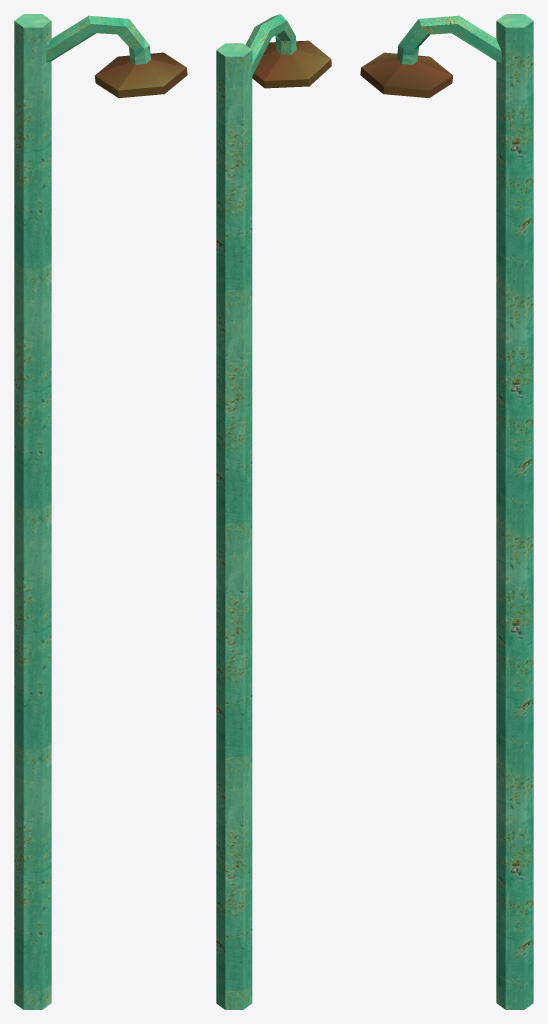
File: Lampu.fbx
The picture shows the model from 3 angles, left to right: view 1: azimuth 90°, elevation 25°; view 2: azimuth 150°, elevation 25°; view 3: azimuth 270°, elevation 25°; orthographic projection. The views are drawn at different scales.
Visible parts, largest first — view 1: Cylinder, Cylinder.001; view 2: Cylinder, Cylinder.001; view 3: Cylinder, Cylinder.001.
Boxes of the visible parts, x1,y1,x2,y2 form: Cylinder: (14,14,51,1009); Cylinder.001: (46,15,187,97); Cylinder: (216,43,252,1009); Cylinder.001: (245,14,331,88); Cylinder: (496,14,533,1009); Cylinder.001: (360,15,501,97).
Size of the model in its own units: 25.83 by 351 by 55.89.
Materials: 2 (2 with a texture image).
